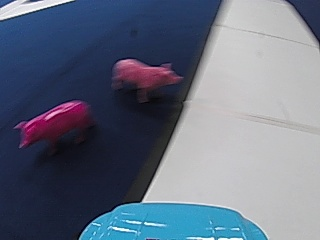pig: (12, 96, 96, 150), (110, 54, 182, 103)
